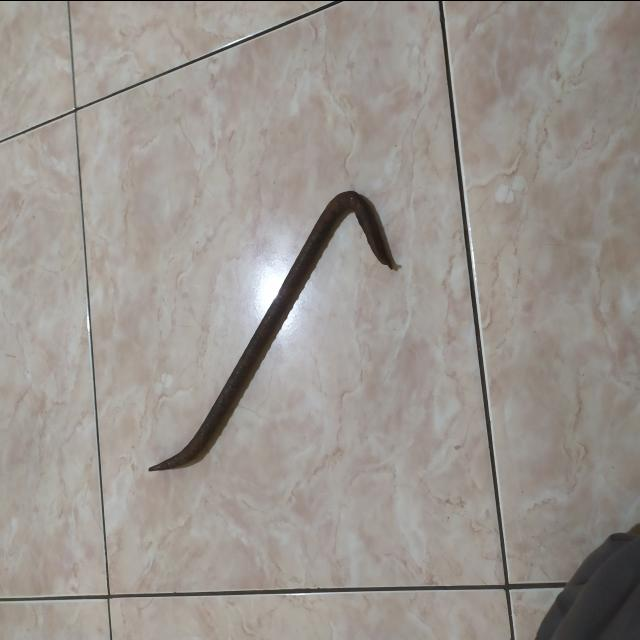Linggis: (150, 187, 401, 473)
